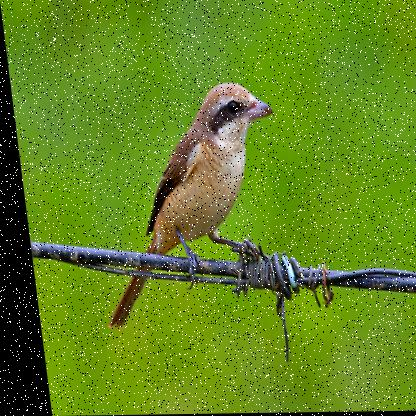Burung: (73, 80, 296, 334)
